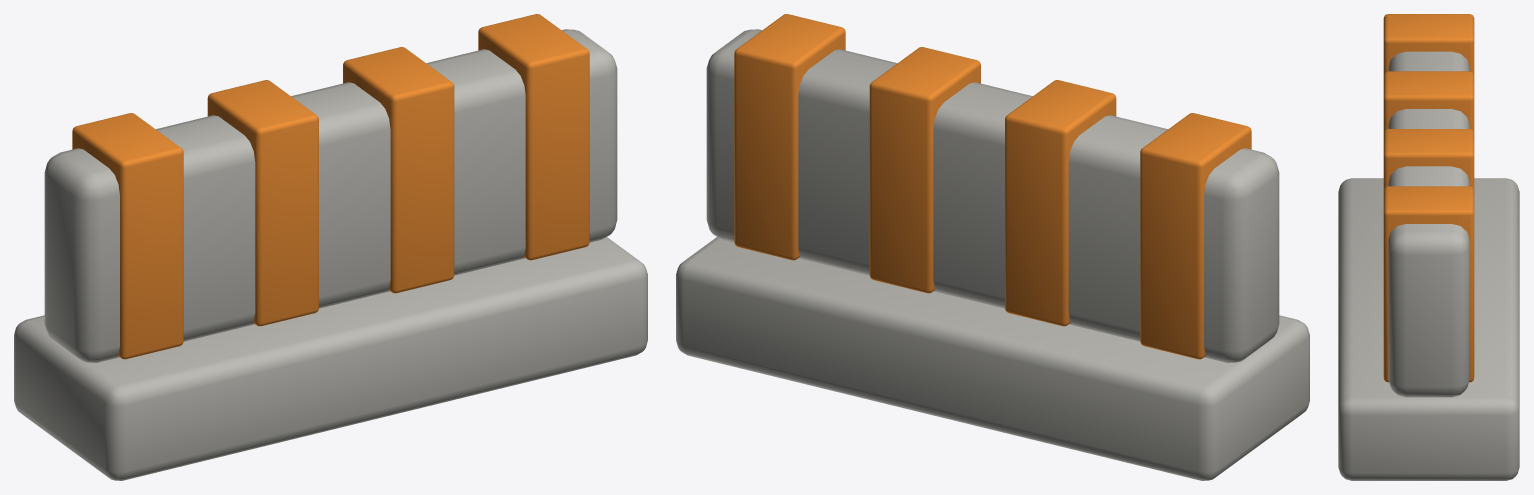
File: barrier_stripe.glb
3 renders of one model, left to right at view 1: azimuth 30°, elevation 25°; view 2: azimuth 150°, elevation 25°; view 3: azimuth 270°, elevation 25°, orthographic. The views are drawn at different scales.
Parts seen in each view (by area): view 1: base.003, top.009, st.002, st.003, st, st.001; view 2: base.003, top.009, st.002, st.003, st, st.001; view 3: base.003, top.009, st.003, st.001, st, st.002.
Part boxes in pixels (box(x1,y1,x2,y2)): base.003: box(14, 237, 647, 480); top.009: box(44, 29, 617, 362); st.002: box(343, 47, 454, 293); st.003: box(478, 14, 589, 260); st: box(72, 113, 183, 359); st.001: box(207, 80, 318, 326); base.003: box(676, 237, 1309, 480); top.009: box(706, 29, 1279, 362); st.002: box(869, 47, 980, 293); st.003: box(734, 14, 845, 260); st: box(1140, 113, 1251, 359); st.001: box(1005, 80, 1116, 326); base.003: box(1338, 178, 1519, 480); top.009: box(1388, 51, 1469, 397); st.003: box(1383, 186, 1474, 382); st.001: box(1383, 71, 1474, 132); st: box(1383, 14, 1474, 75); st.002: box(1383, 129, 1474, 189).
Size of the model in its own units: 1.2 by 0.63 by 0.4.
